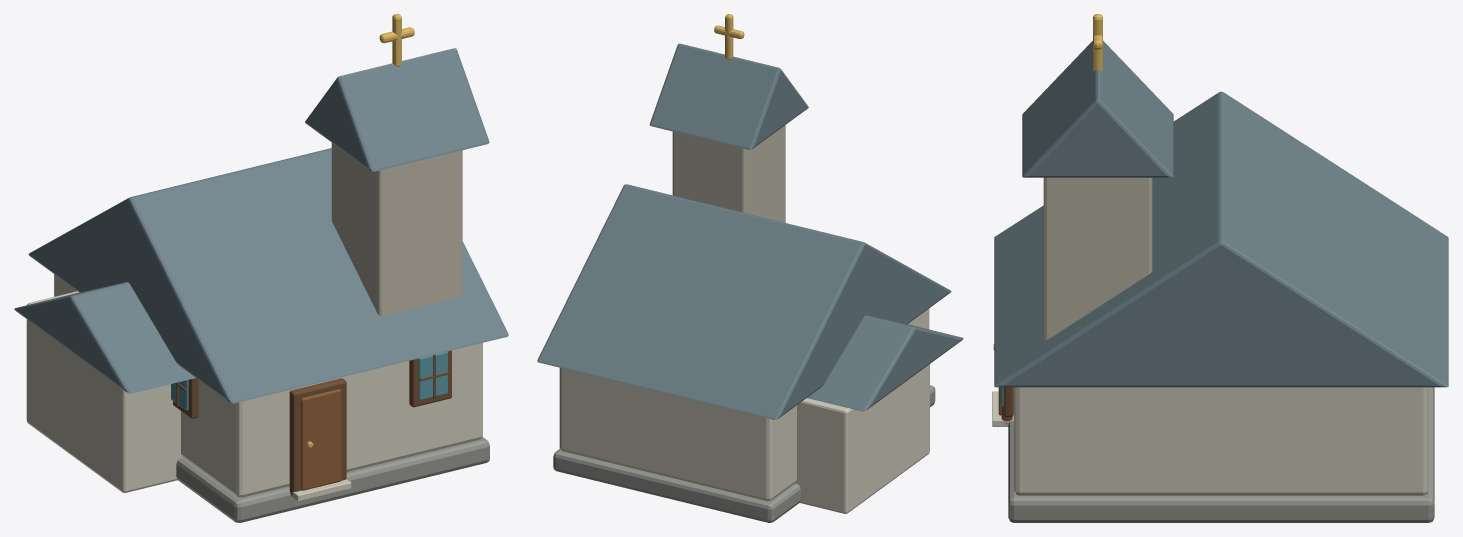
File: temperate-chapel-1.glb
3 views of the same model, side by side, from view 1: azimuth 30°, elevation 25°; view 2: azimuth 150°, elevation 25°; view 3: azimuth 270°, elevation 25° (orthographic). The views are drawn at different scales.
Parts seen in each view (by area): view 1: Blue slate, Cut limestone, Warm civic stone, Foundation stone, Dark beams, Door oak, Blue glass, Warm brass; view 2: Blue slate, Cut limestone, Warm civic stone, Foundation stone, Warm brass; view 3: Blue slate, Cut limestone, Warm civic stone, Foundation stone, Warm brass.
Boxes of the visible parts, x1=… form: Blue slate: x1=14, y1=48, x2=508, y2=403; Cut limestone: x1=26, y1=274, x2=482, y2=501; Warm civic stone: x1=331, y1=143, x2=462, y2=316; Foundation stone: x1=176, y1=437, x2=489, y2=522; Dark beams: x1=173, y1=350, x2=451, y2=495; Door oak: x1=301, y1=389, x2=341, y2=490; Blue glass: x1=171, y1=351, x2=447, y2=410; Warm brass: x1=306, y1=14, x2=414, y2=447; Blue slate: x1=537, y1=43, x2=963, y2=419; Cut limestone: x1=559, y1=308, x2=929, y2=513; Warm civic stone: x1=672, y1=125, x2=785, y2=222; Foundation stone: x1=553, y1=385, x2=935, y2=522; Warm brass: x1=714, y1=14, x2=744, y2=59; Blue slate: x1=994, y1=40, x2=1448, y2=387; Cut limestone: x1=992, y1=387, x2=1428, y2=495; Warm civic stone: x1=1043, y1=177, x2=1152, y2=341; Foundation stone: x1=1008, y1=387, x2=1434, y2=522; Warm brass: x1=993, y1=14, x2=1102, y2=349.
Bounding box in the file's own units: 4.4 × 5.38 × 4.62.
